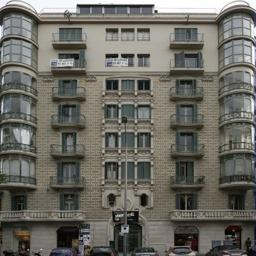building: (0, 0, 256, 256)
